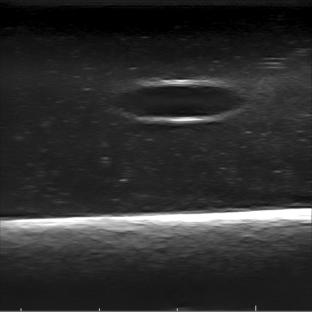vessel: (110, 79, 247, 123)
